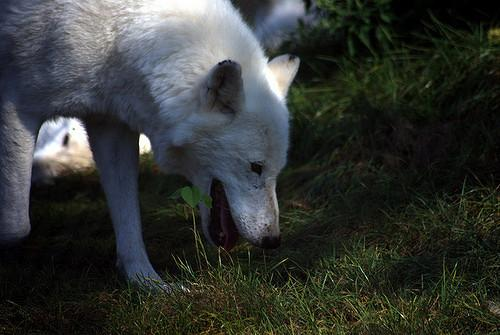Wolf: (0, 0, 300, 300)
